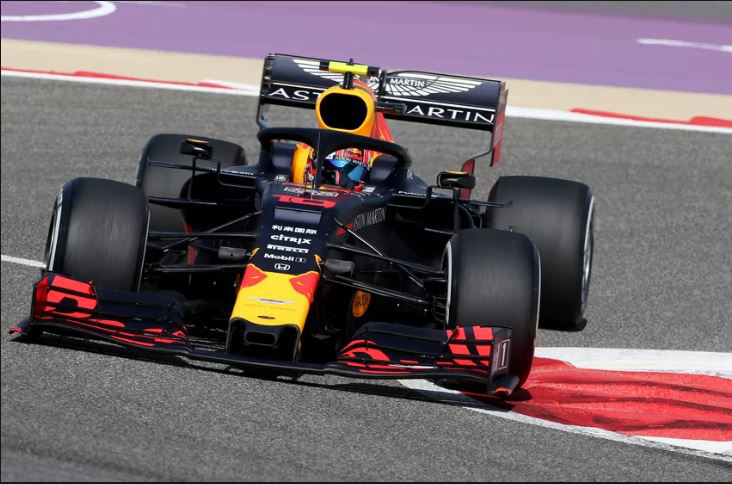F1 Car: (14, 46, 605, 404)
